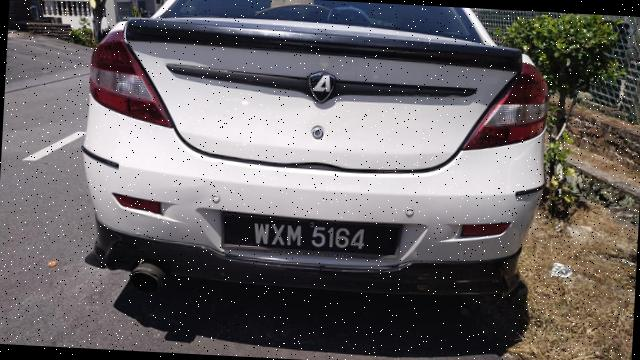License_Plate: (225, 217, 388, 258)
car: (76, 1, 576, 291)
